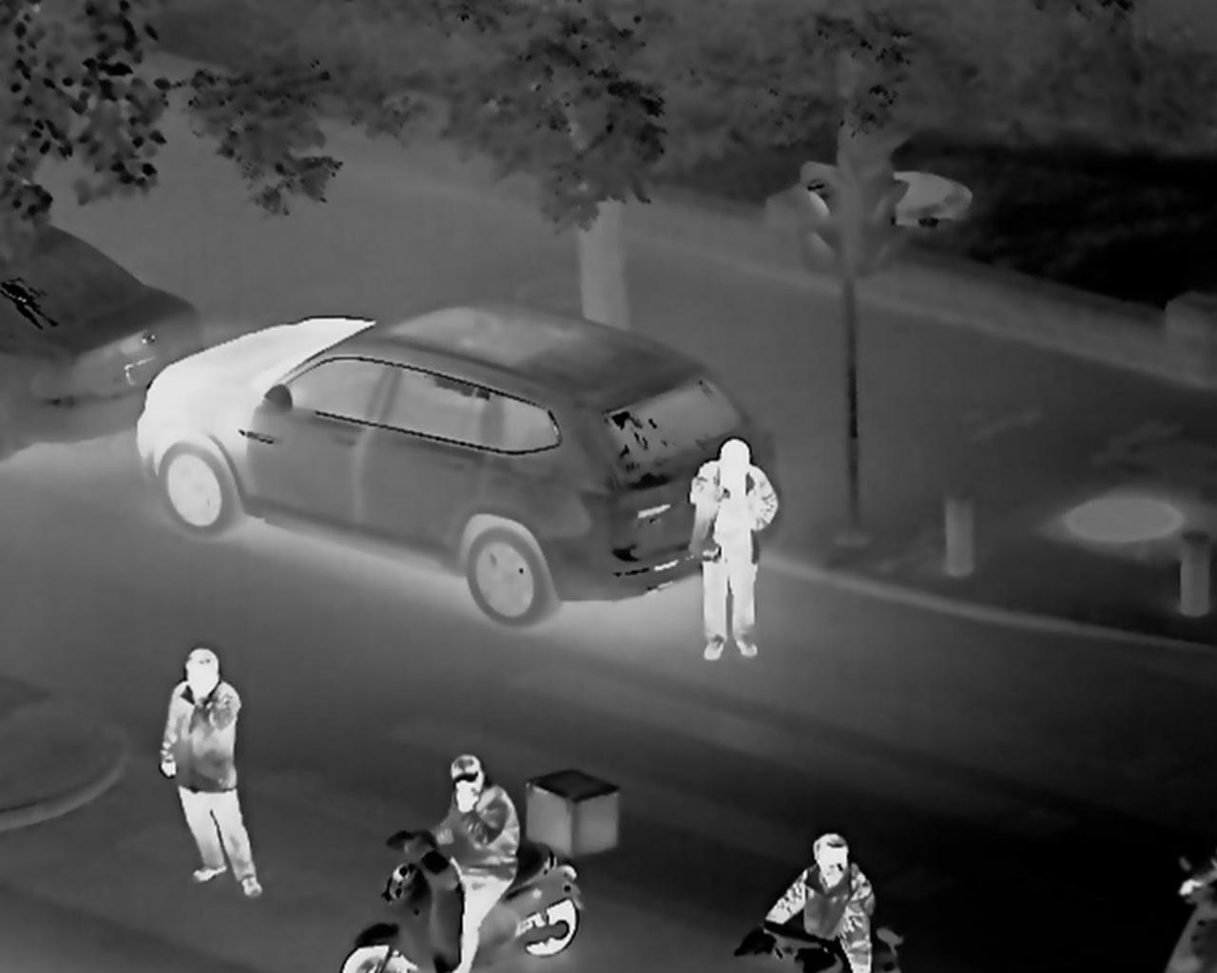person: (164, 656, 286, 877), (425, 741, 531, 973), (670, 429, 779, 649), (786, 837, 894, 967)
